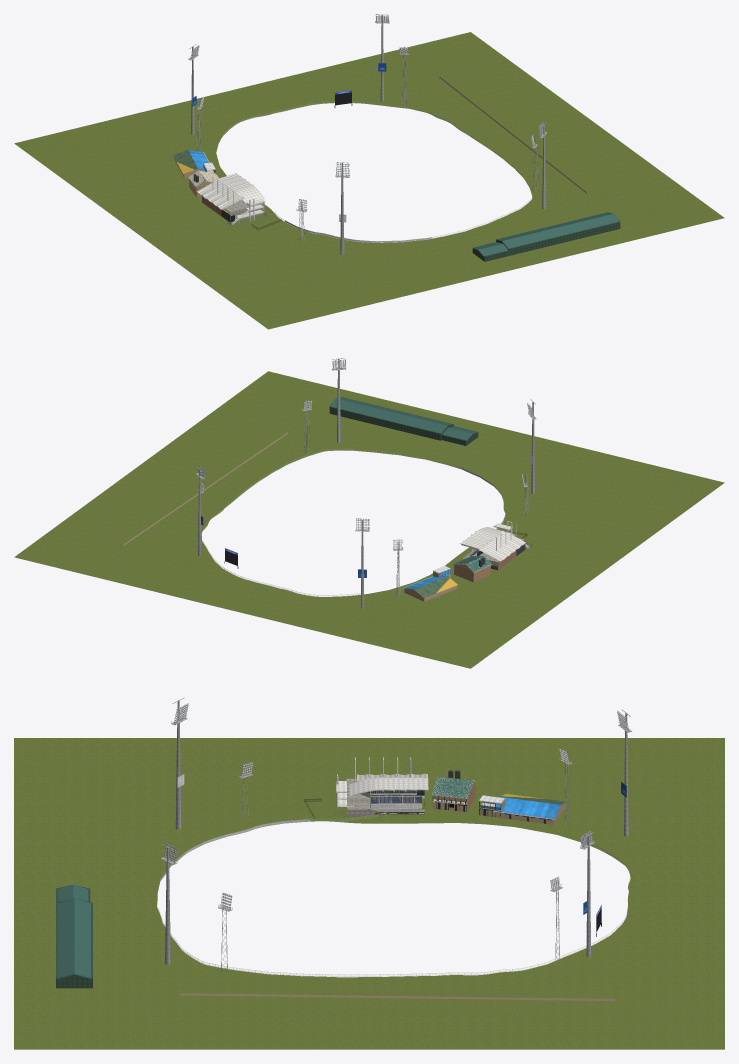
File: traeger.glb
3 views of the same model, one above another, from view 1: azimuth 30°, elevation 25°; view 2: azimuth 150°, elevation 25°; view 3: azimuth 270°, elevation 25° (orthographic). The views are drawn at different scales.
Parts seen in each view (by area): view 1: ground_dirt, shed, shed_walls, canopy_top; view 2: ground_dirt, shed, shed_walls, canopy_top; view 3: ground_dirt, shed, east_wall, fence_hoard, blue_roof, green_roof_f, shed_walls.
Part boxes in pixels (<box>): ground_dirt: <box>14,32,724,329</box>; shed: <box>496,213,620,248</box>; shed_walls: <box>496,212,620,255</box>; canopy_top: <box>196,180,244,209</box>; ground_dirt: <box>14,371,724,668</box>; shed: <box>329,397,453,433</box>; shed_walls: <box>329,397,453,440</box>; canopy_top: <box>479,530,525,560</box>; ground_dirt: <box>14,738,724,1049</box>; shed: <box>57,897,91,979</box>; east_wall: <box>179,993,615,1001</box>; fence_hoard: <box>170,916,625,976</box>; blue_roof: <box>493,796,560,818</box>; green_roof_f: <box>431,776,473,798</box>; shed_walls: <box>56,903,92,988</box>.
Bounding box in the file's own units: 280 × 53.67 × 270.
51 materials, 50 textured.
